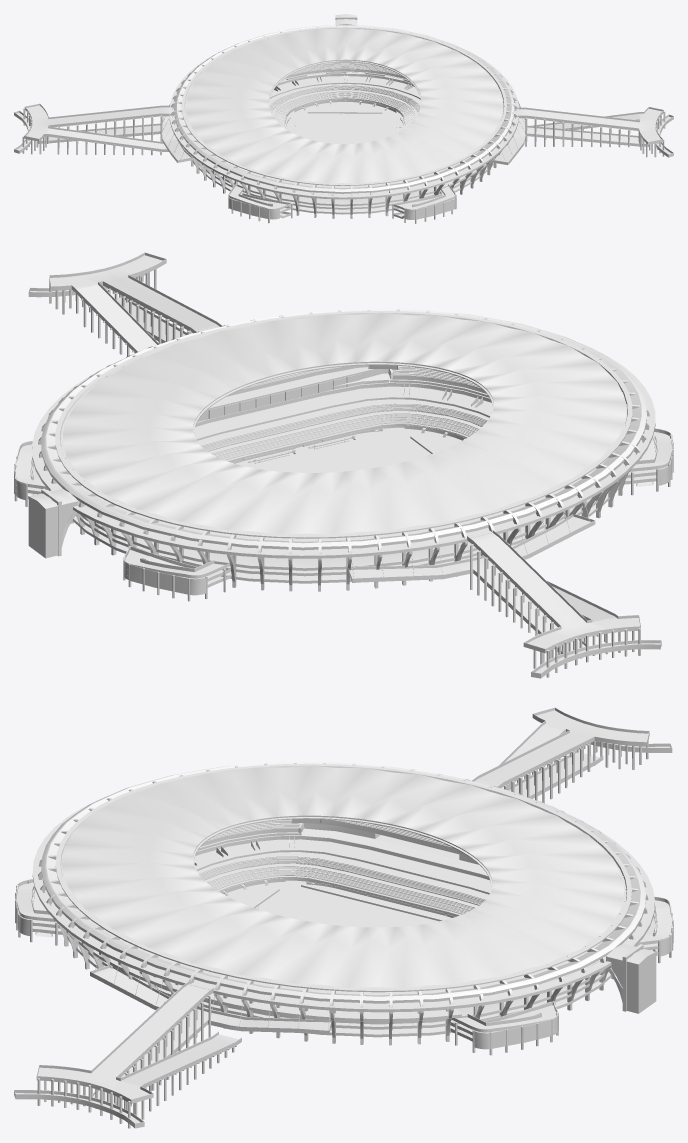
Rendered from sf-maracana.glb.
3 renders of one model, top to bottom at view 1: azimuth 30°, elevation 25°; view 2: azimuth 150°, elevation 25°; view 3: azimuth 270°, elevation 25°, orthographic. The views are drawn at different scales.
Visible parts, largest first — view 1: maraca, escadas, maraca.001; view 2: maraca, escadas, maraca.001; view 3: maraca, escadas, maraca.001.
Boxes of the visible parts, x1,y1,x2,y2 form: maraca: (169, 25, 519, 218); escadas: (14, 14, 673, 223); maraca.001: (185, 99, 518, 193); maraca: (32, 309, 655, 591); escadas: (14, 252, 673, 678); maraca.001: (223, 315, 631, 518); maraca: (32, 762, 654, 1045); escadas: (14, 707, 673, 1128); maraca.001: (139, 763, 454, 1006).
Size of the model in its own units: 5.49 by 0.4674 by 3.74.
Materials: 2 (2 with a texture image).
